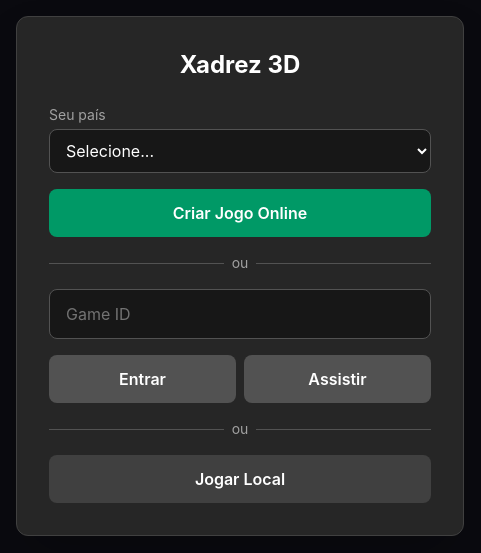
Test: Lobby › enables Join button when game ID is entered
Type "abc123" into the field with placeholder "Game ID" at (240, 314), box [49,289,431,339]
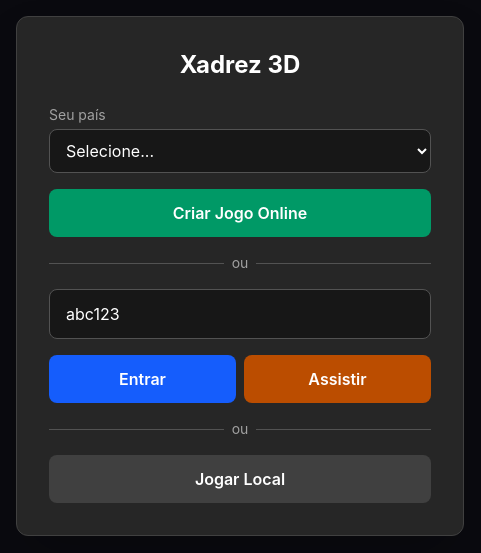
Check: the button "Entrar" is enabled, box [49,355,236,403]
